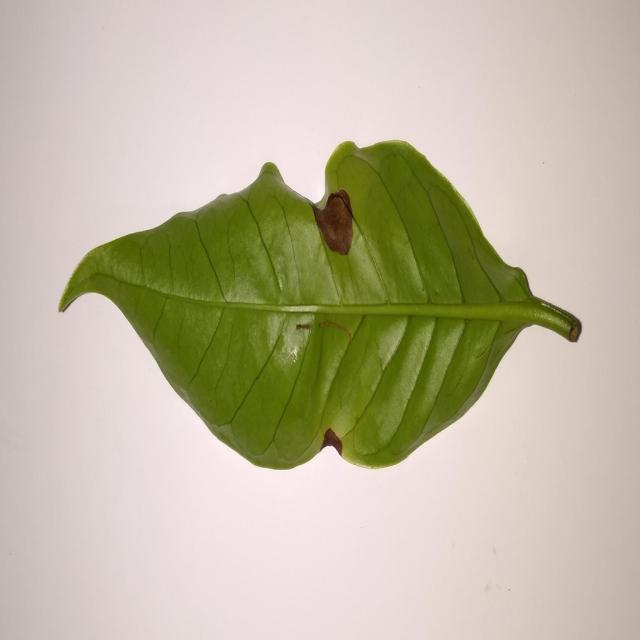phoma: (311, 189, 354, 256), (320, 428, 344, 458)
